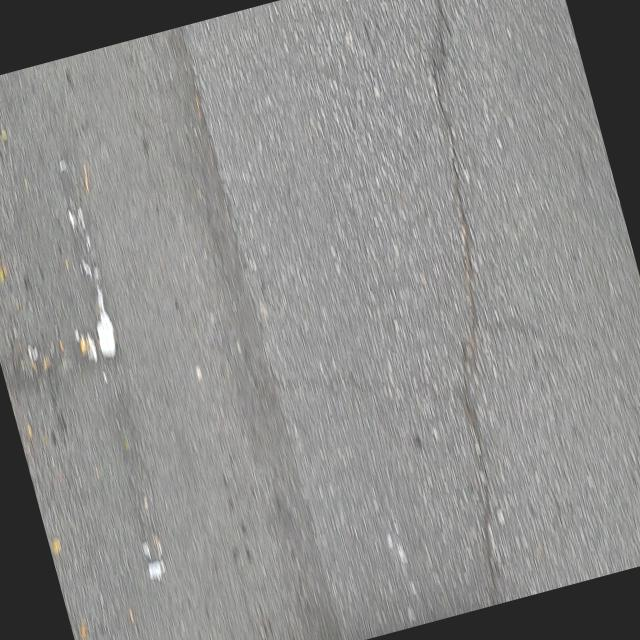Retak-Memanjang: (425, 0, 502, 601)
